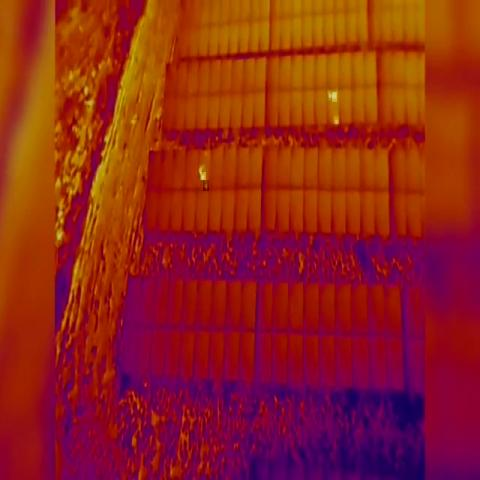fault: (196, 164, 204, 176), (203, 180, 209, 191), (333, 116, 339, 125), (327, 91, 332, 101), (332, 92, 337, 102), (200, 172, 206, 180)
